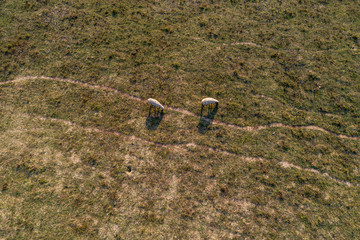sheep: (145, 97, 165, 114), (198, 97, 221, 110)
